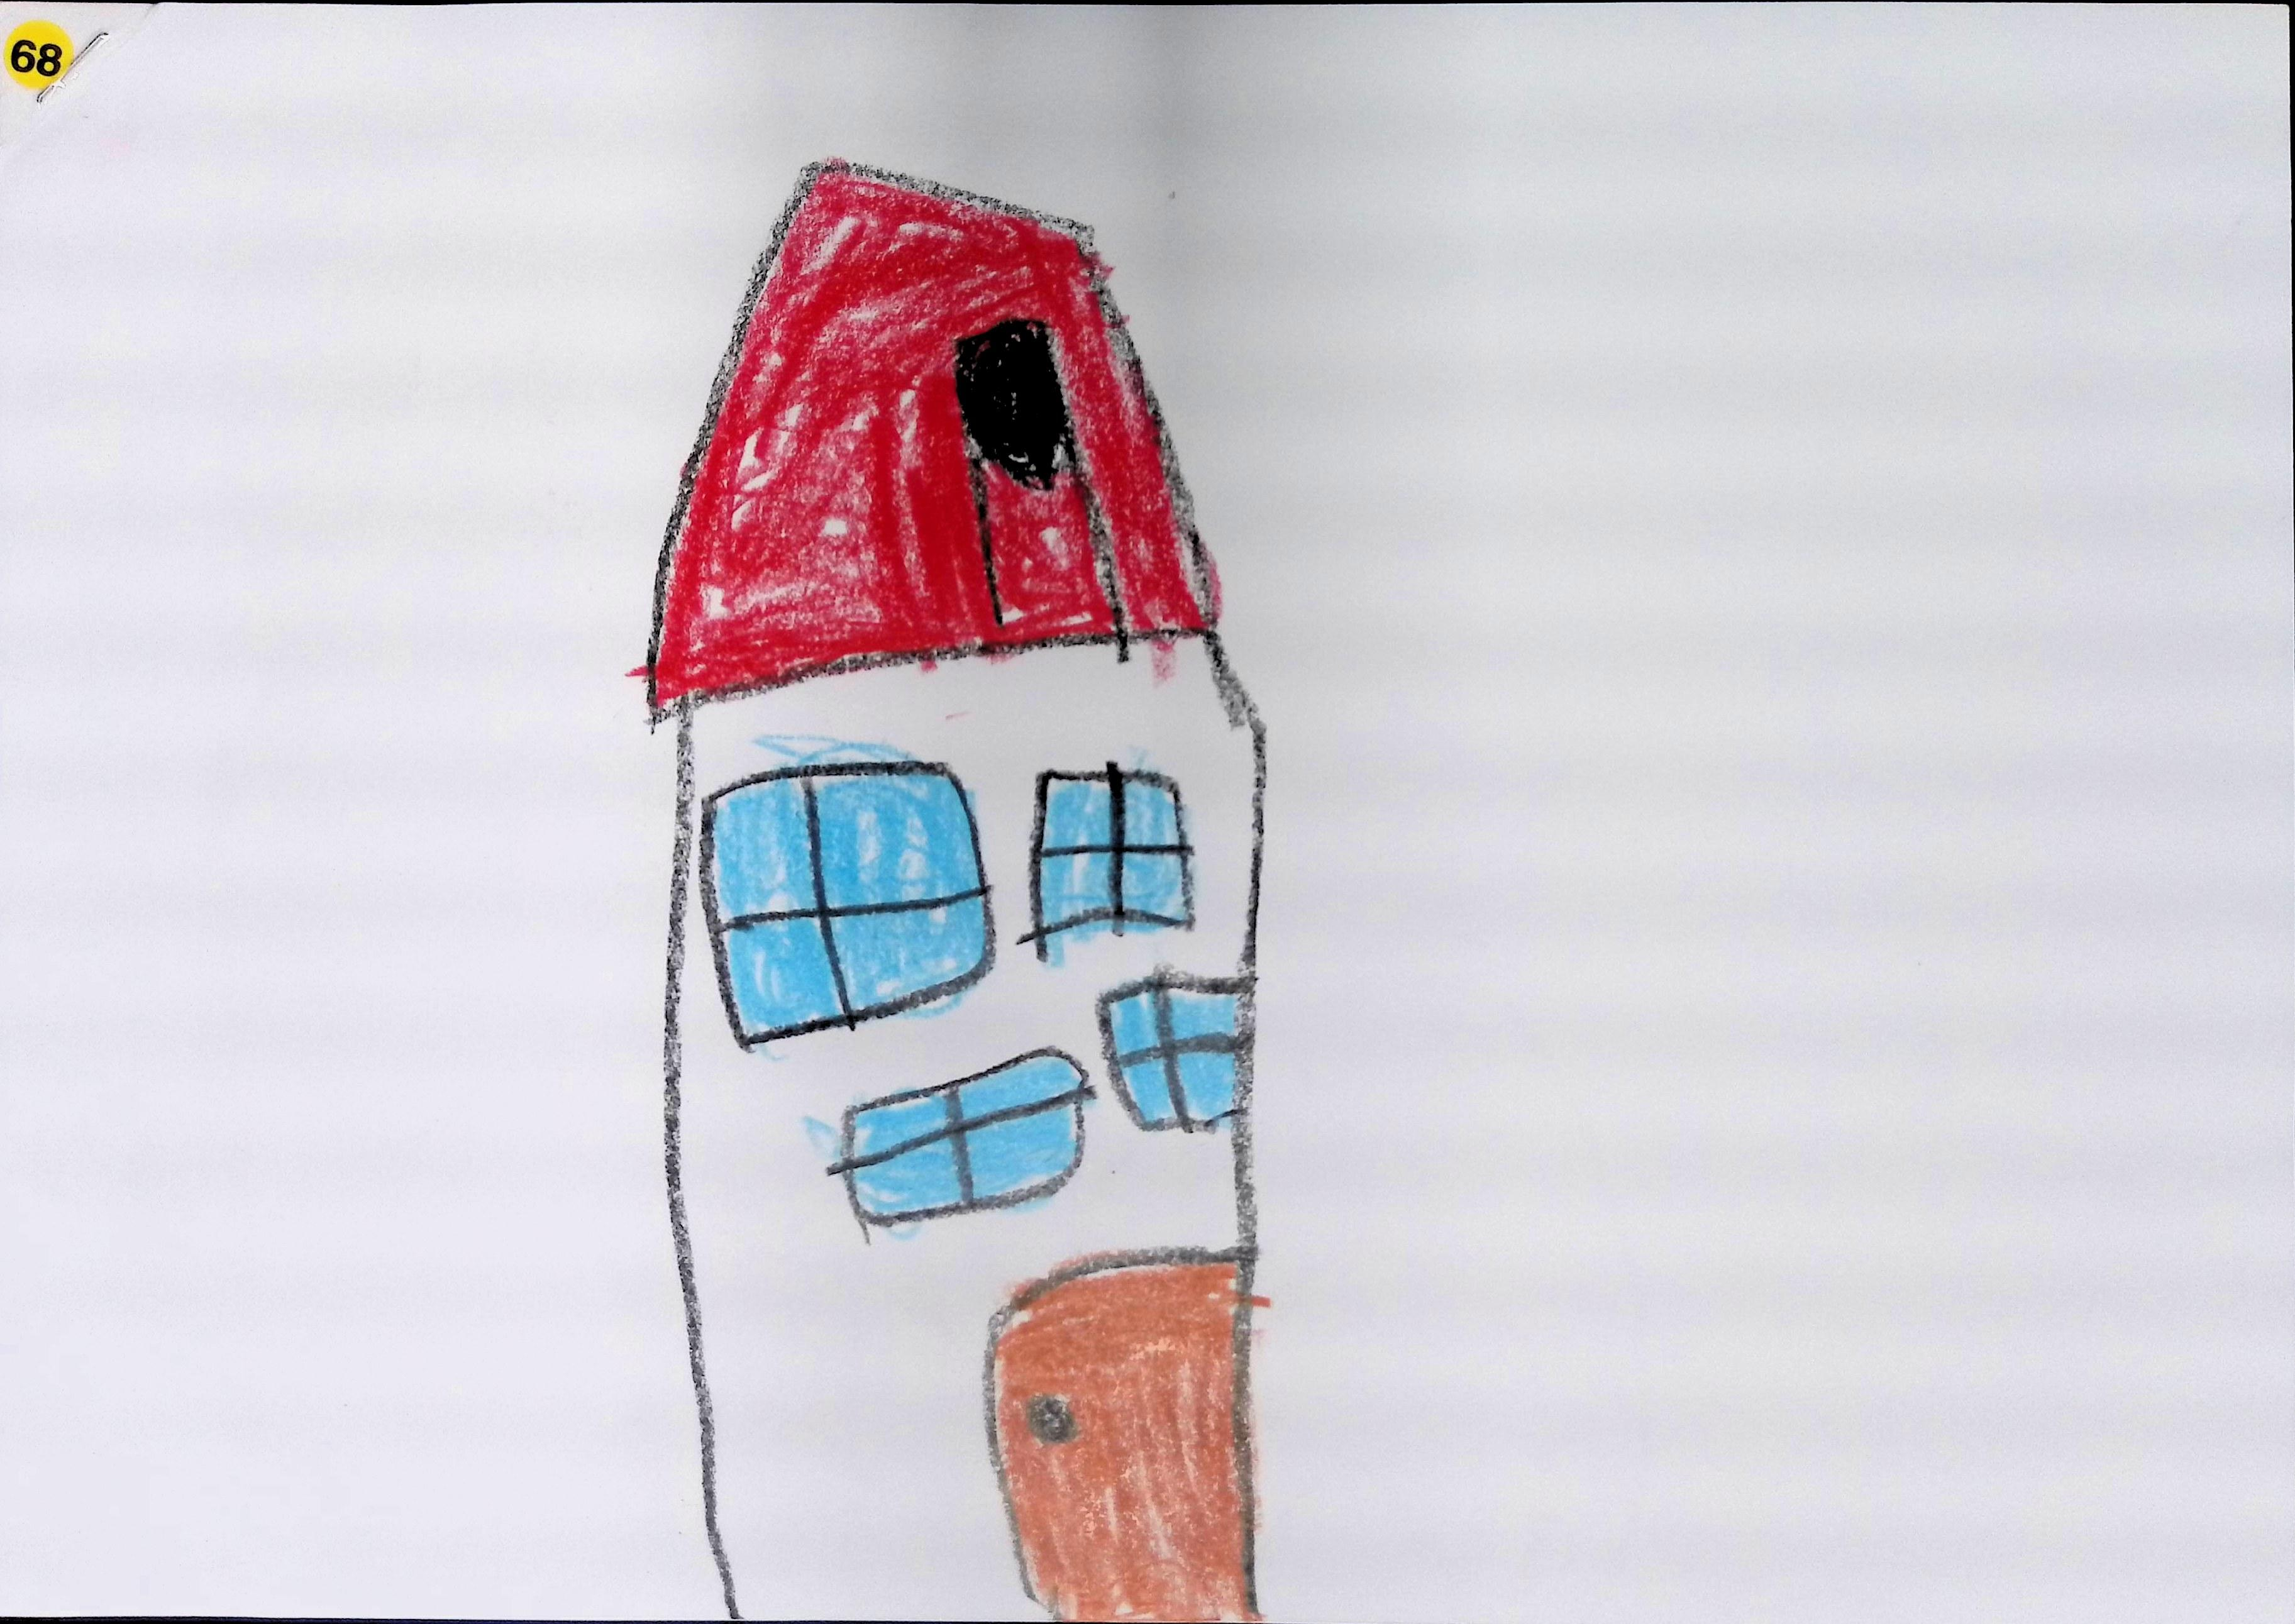chimney: (937, 302, 1140, 647)
door: (988, 1255, 1256, 1624)
house: (643, 158, 1265, 1622)
roof: (648, 160, 1218, 710)
wall: (661, 626, 1276, 1624)
window: (701, 761, 993, 1048), (826, 1049, 1093, 1237), (1023, 761, 1193, 965), (1098, 972, 1251, 1132)
